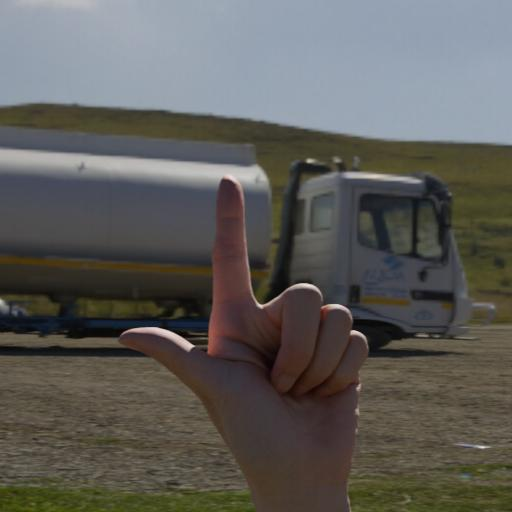L: (109, 174, 401, 496)
